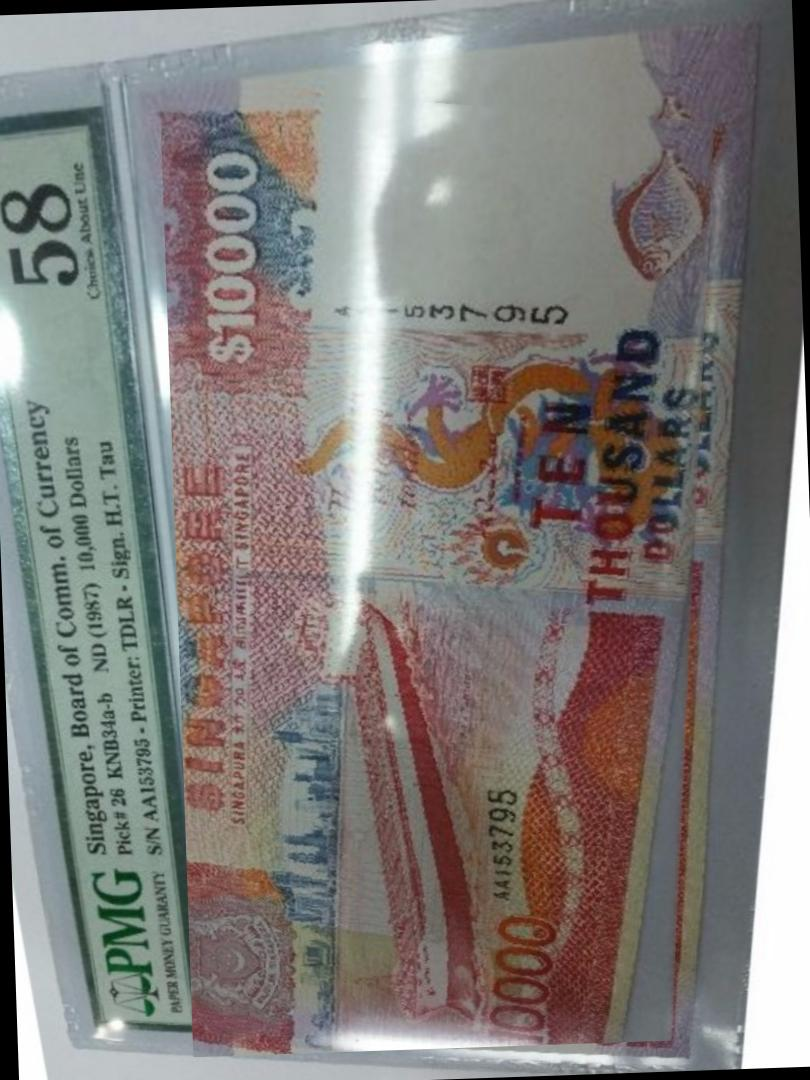10000SingaporeDollar: (159, 64, 746, 1057)
